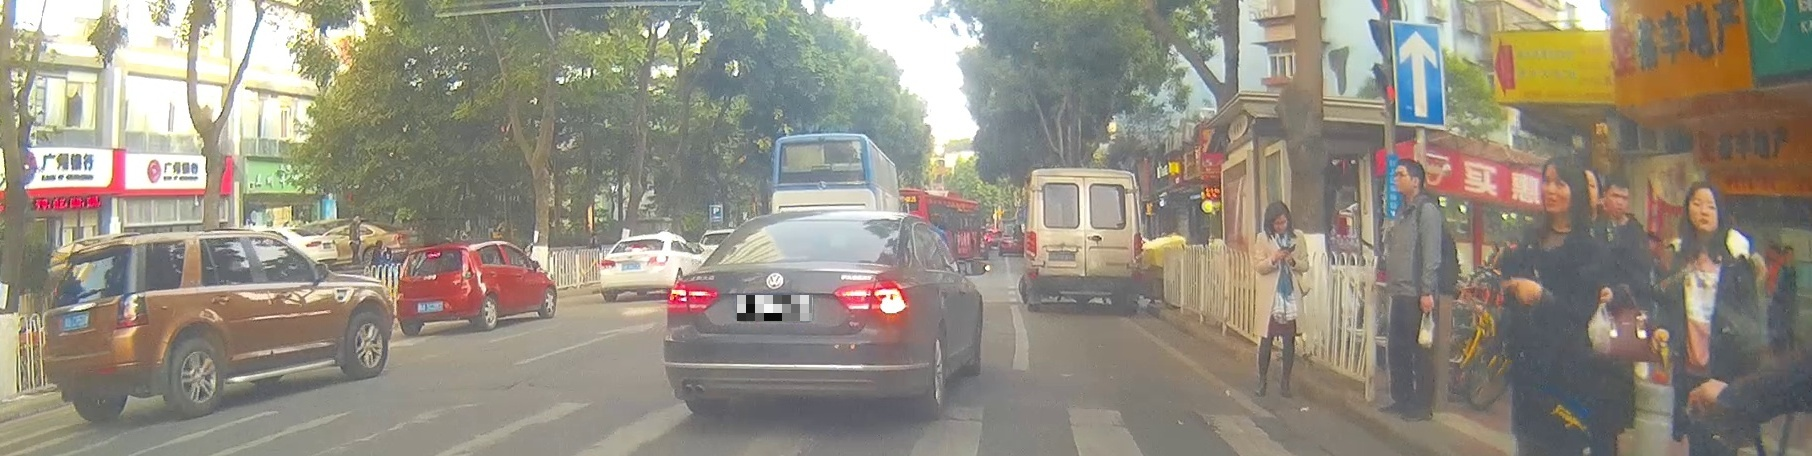L_light: (664, 283, 719, 314), (40, 311, 55, 335), (1024, 231, 1035, 257), (398, 268, 407, 281)
R_light: (833, 279, 909, 317), (114, 292, 151, 330), (1132, 232, 1143, 257), (460, 263, 473, 279)
T_light: (768, 256, 808, 264), (86, 254, 110, 260), (426, 252, 441, 257), (1076, 175, 1094, 179)
day-brake: (394, 242, 476, 337)
day-no: (40, 238, 156, 423), (1022, 167, 1143, 312)
day-right: (663, 214, 909, 416)
plate_1: (737, 296, 812, 321)
